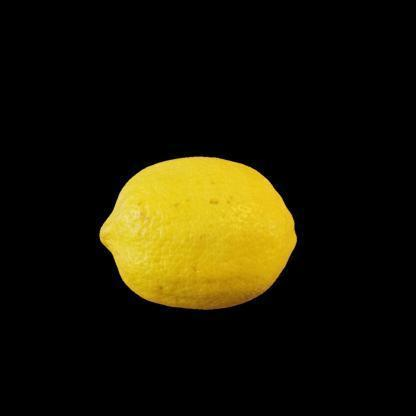lemon: (98, 156, 298, 310)
